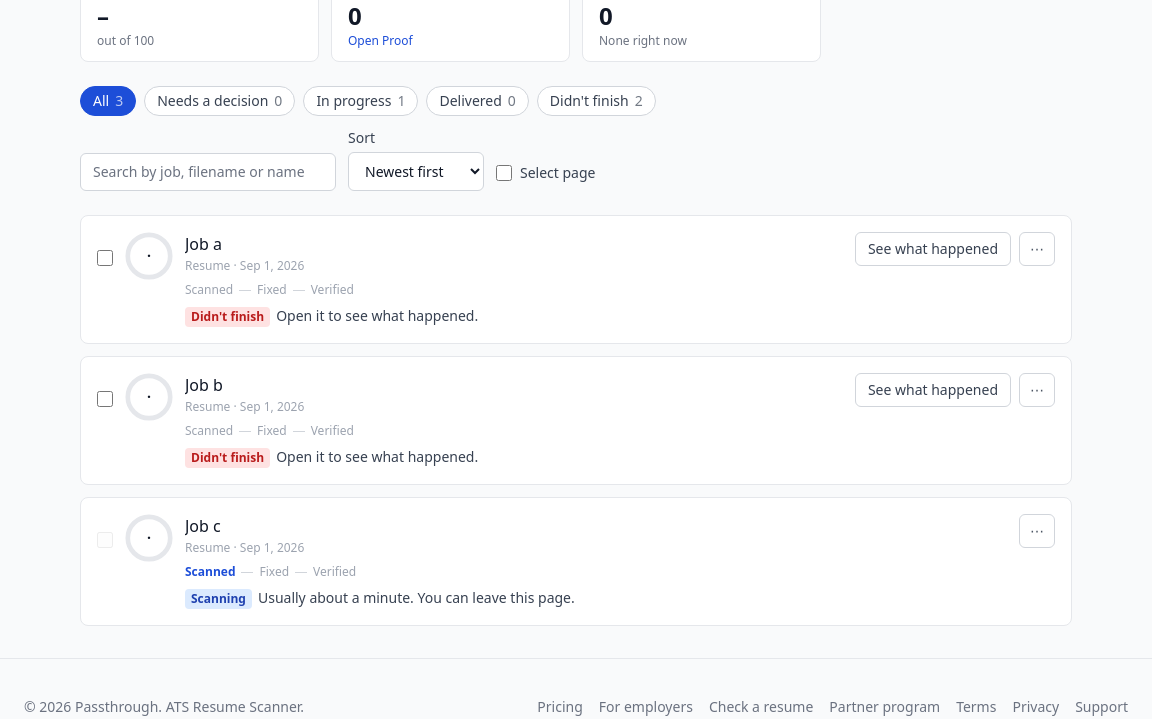
Test case: hand-picked delete › sends exactly the ticked ids in one request, then reloads and clears the selection
This screenshot has width=1152, height=719.
(page scrolled)
Check: the link "Job a" is shown, box [185,233,222,255]
Click the checkbox named "Select Job b" at (105, 399), box [97,391,113,407]
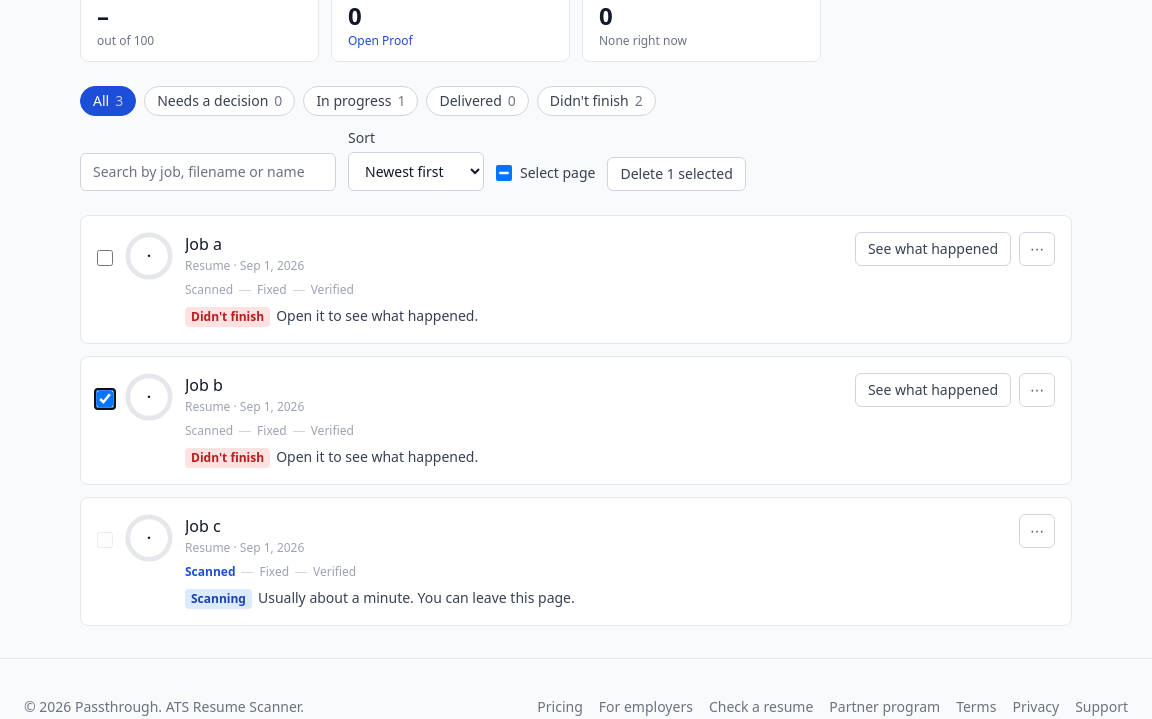
Click the button "Delete 1 selected" at (677, 174), box [608,157,746,191]
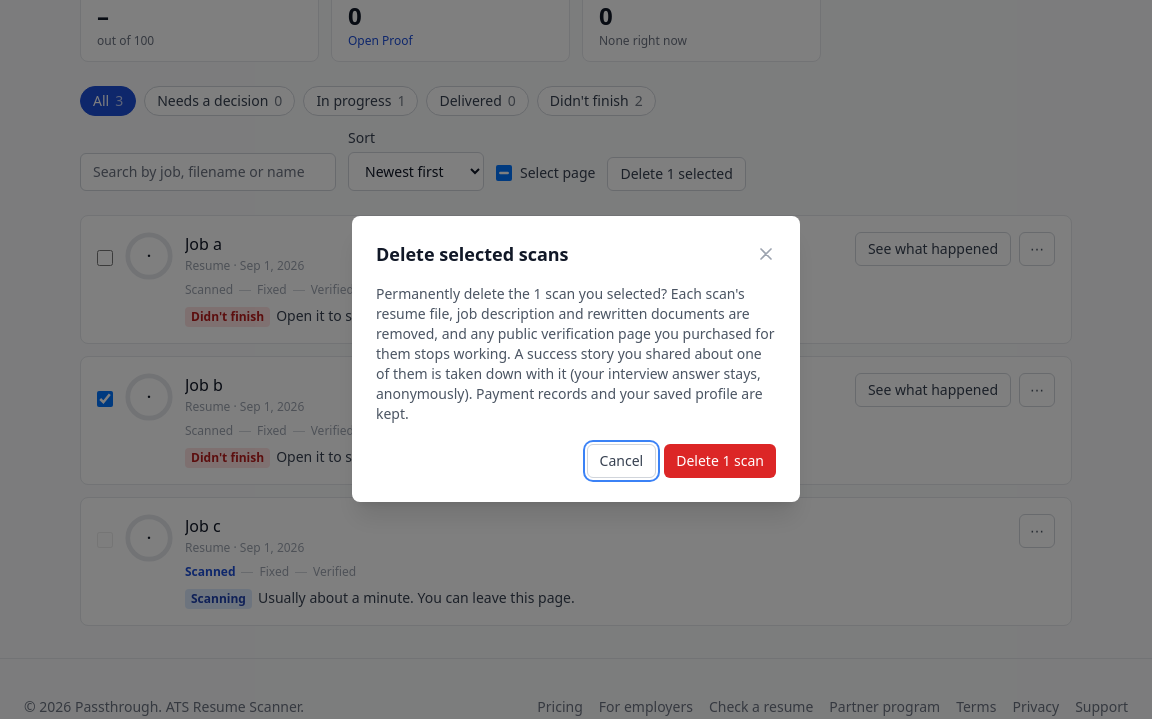
Click the button "Delete 1 scan" at (720, 461), box [664,444,776,478]
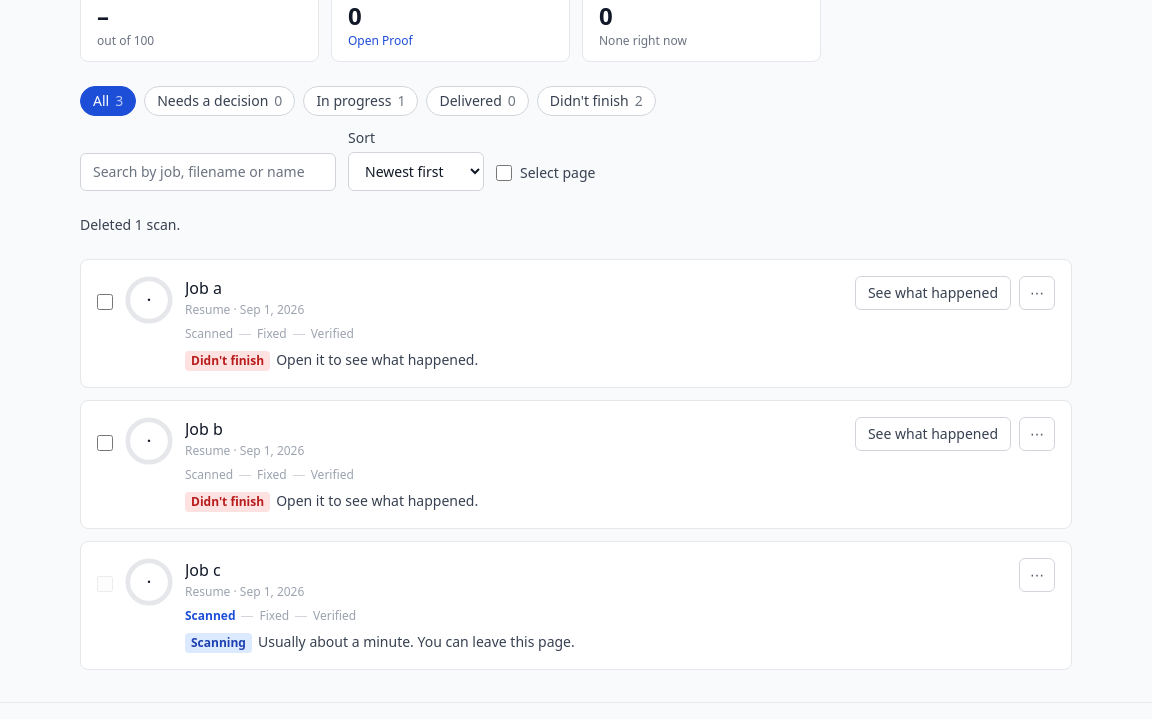
Check: the button "selected" is gone
